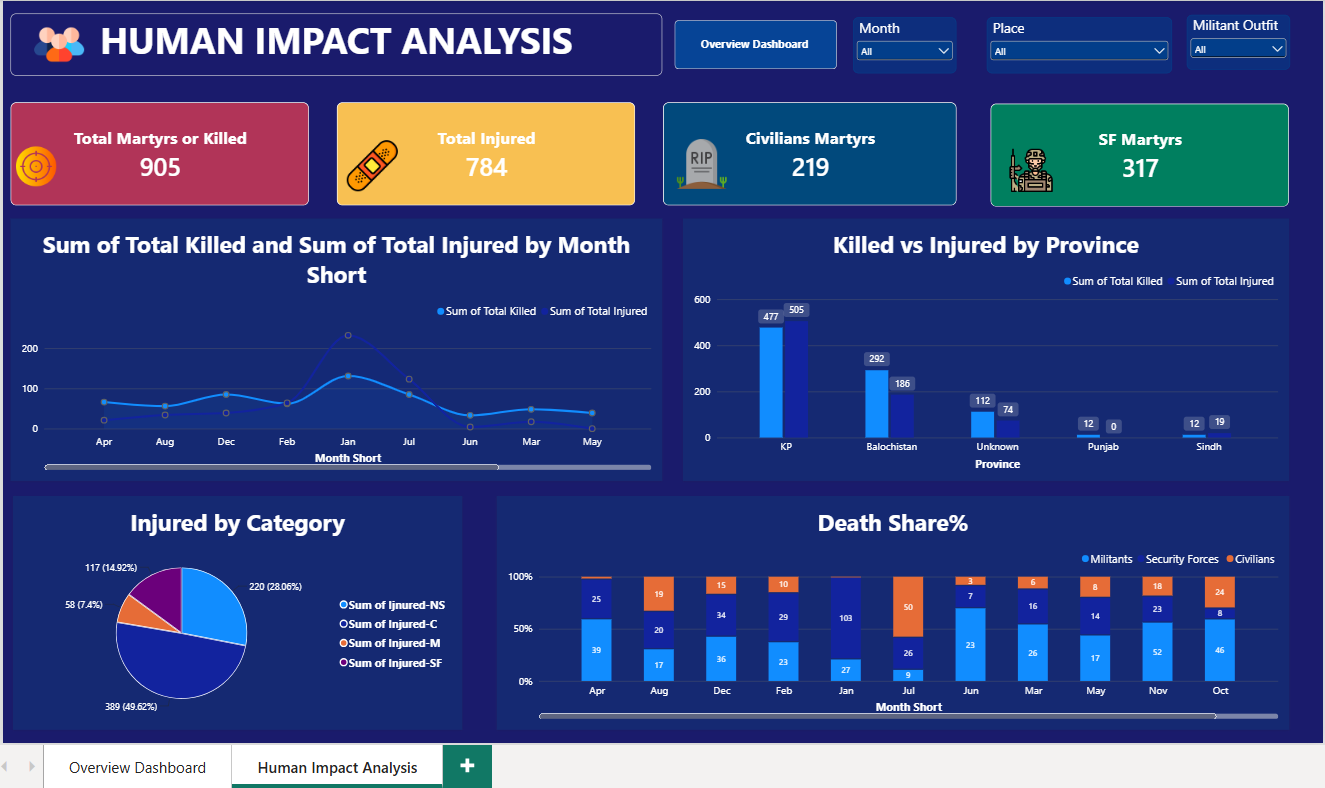

The page's visual inventory and layout, read from the dashboard file:
{"tool":"powerbi","page":{"name":"Human Impact Analysis","canvas":[1920,1080],"ordinal":1},"visuals":[{"type":"textbox","box":[10.9,18.1,948.3,90.5],"z":0},{"type":"image","box":[43.4,27.1,76,72.4],"z":1000},{"type":"cardVisual","fields":{"Data":["Sum(Terrorism_Attacks_2023.Total Killed)"]},"box":[10.9,146.6,434.3,150.2],"z":2000},{"type":"image","box":[14.5,202.7,67,77.8],"z":3000},{"type":"cardVisual","fields":{"Data":["Sum(Terrorism_Attacks_2023.Total Injured)"]},"box":[485,146.6,434.1,150.3],"z":4000},{"type":"image","box":[499.5,200.9,74.2,79.6],"z":5000},{"type":"cardVisual","fields":{"Data":["Sum(Terrorism_Attacks_2023.Killed-C)"]},"box":[959.1,146.6,427.8,150.3],"z":6000},{"type":"image","box":[977.2,195.4,79.6,85.1],"z":7000},{"type":"cardVisual","fields":{"Data":["Sum(Terrorism_Attacks_2023.Killed-SF)"]},"box":[1436.9,148.4,434.1,150.3],"z":8000},{"type":"image","box":[1455,213.5,81.4,67],"z":9000},{"type":"actionButton","box":[977.2,27.1,237.1,72.4],"z":10000},{"type":"clusteredColumnChart","title":"Killed vs Injured by Province","fields":{"Y":["Sum(Terrorism_Attacks_2023.Total Killed)","Sum(Terrorism_Attacks_2023.Total Injured)"],"Category":["Terrorism_Attacks_2023.Province"]},"box":[989.9,316.7,881.3,381.8],"z":11000},{"type":"hundredPercentStackedColumnChart","title":"Death Share%","fields":{"Y":["Sum(Terrorism_Attacks_2023.Killed-M)","Sum(Terrorism_Attacks_2023.Killed-SF)","Sum(Terrorism_Attacks_2023.Killed-C)"],"Category":["Terrorism_Attacks_2023.Month Short"]},"box":[718.4,720.2,1152.8,340.2],"z":12000},{"type":"pieChart","title":"Injured by Category","fields":{"Y":["Sum(Terrorism_Attacks_2023.Ijnured-NS)","Sum(Terrorism_Attacks_2023.Injured-C)","Sum(Terrorism_Attacks_2023.Injured-M)","Sum(Terrorism_Attacks_2023.Injured-SF)"]},"box":[14.5,720,687.3,340],"z":13000},{"type":"lineChart","title":"Monthly Deaths Trend","fields":{"Category":["Terrorism_Attacks_2023.Month Short"],"Y":["Sum(Terrorism_Attacks_2023.Total Killed)","Sum(Terrorism_Attacks_2023.Total Injured)"]},"box":[10.9,316.7,948.3,381.8],"z":14000},{"type":"slicer","fields":{"Values":["Terrorism_Attacks_2023.Month Short"]},"box":[1236,23.5,150.2,81.4],"z":14001},{"type":"slicer","fields":{"Values":["Terrorism_Attacks_2023.Place"]},"box":[1431.4,23.5,269.6,81.4],"z":14002},{"type":"slicer","fields":{"Values":["Terrorism_Attacks_2023.Militant Outfit"]},"box":[1721,19.9,150.2,79.6],"z":14003}]}

Visuals, with their boxes on the page's 1920x1080 design canvas (x1, y1, x2, y2). These are canvas units, not pixel positions in the 1325x788 screenshot, which may show the page scaled, cropped or inside an application window:
textbox: select_region(11, 18, 959, 109)
image: select_region(43, 27, 119, 100)
cardVisual - Sum(Terrorism_Attacks_2023.Total Killed): select_region(11, 147, 445, 297)
image: select_region(14, 203, 82, 280)
cardVisual - Sum(Terrorism_Attacks_2023.Total Injured): select_region(485, 147, 919, 297)
image: select_region(500, 201, 574, 280)
cardVisual - Sum(Terrorism_Attacks_2023.Killed-C): select_region(959, 147, 1387, 297)
image: select_region(977, 195, 1057, 280)
cardVisual - Sum(Terrorism_Attacks_2023.Killed-SF): select_region(1437, 148, 1871, 299)
image: select_region(1455, 214, 1536, 280)
actionButton: select_region(977, 27, 1214, 100)
"Killed vs Injured by Province" clusteredColumnChart: select_region(990, 317, 1871, 698)
"Death Share%" hundredPercentStackedColumnChart: select_region(718, 720, 1871, 1060)
"Injured by Category" pieChart: select_region(14, 720, 702, 1060)
"Monthly Deaths Trend" lineChart: select_region(11, 317, 959, 698)
slicer - Terrorism_Attacks_2023.Month Short: select_region(1236, 24, 1386, 105)
slicer - Terrorism_Attacks_2023.Place: select_region(1431, 24, 1701, 105)
slicer - Terrorism_Attacks_2023.Militant Outfit: select_region(1721, 20, 1871, 100)
